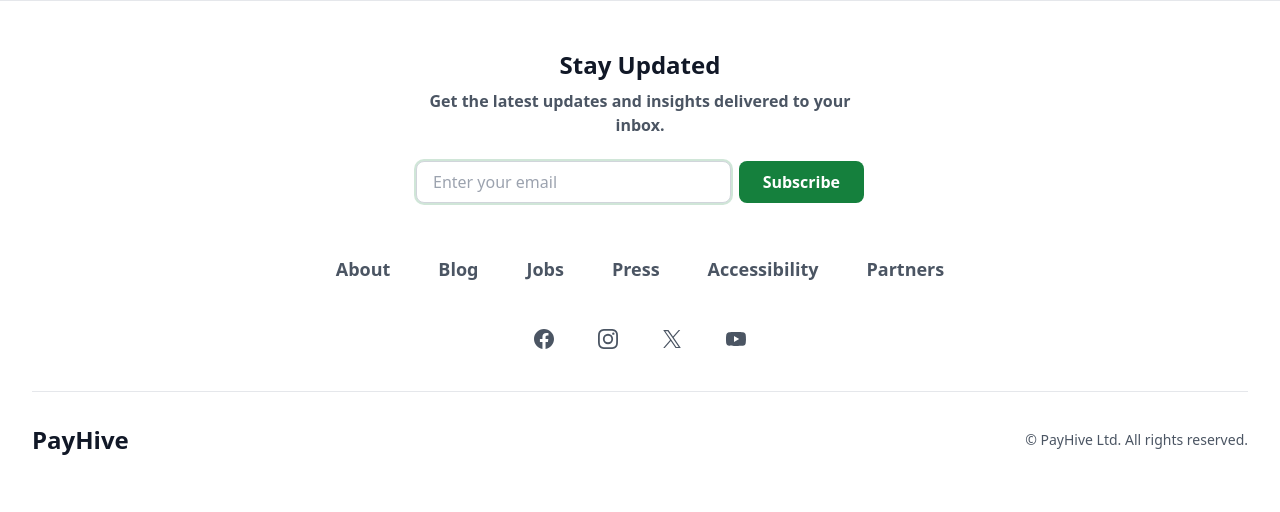
Test: Footer Component › Newsletter Subscription › handles network error during subscription
Type "test@example.com" into the field with placeholder "Enter your email". click: (573, 182)
box: [416,161,731,203]
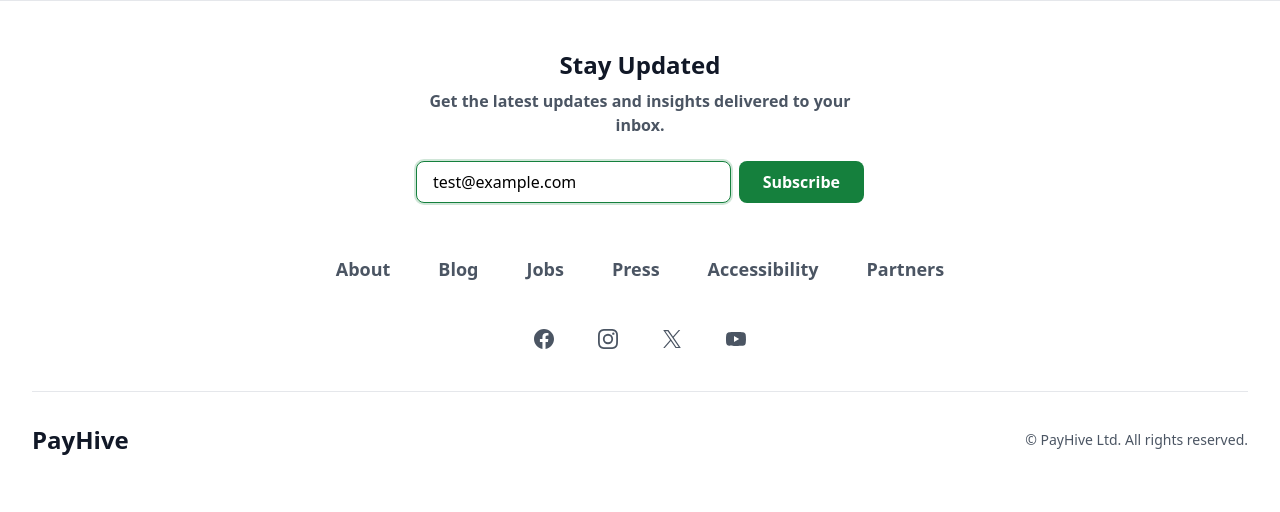
Click the button "Subscribe". click: (801, 182)
box: [739,161,864,203]
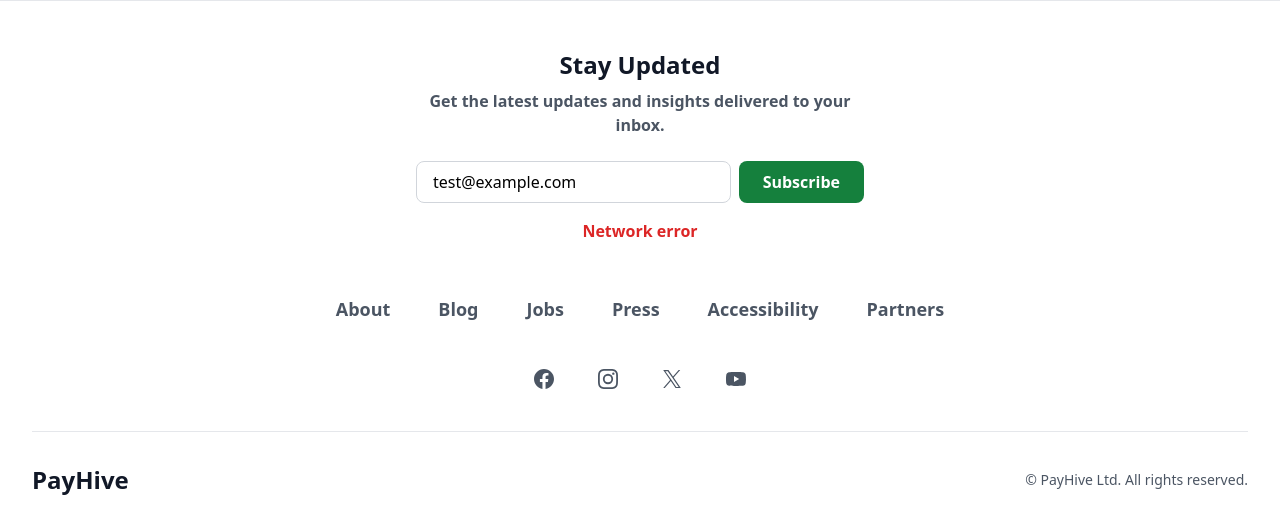
Expected: the field with placeholder "Enter your email" is enabled, [416,161,731,203]
Result: the text "Network error" is shown at [582,220,698,242]
